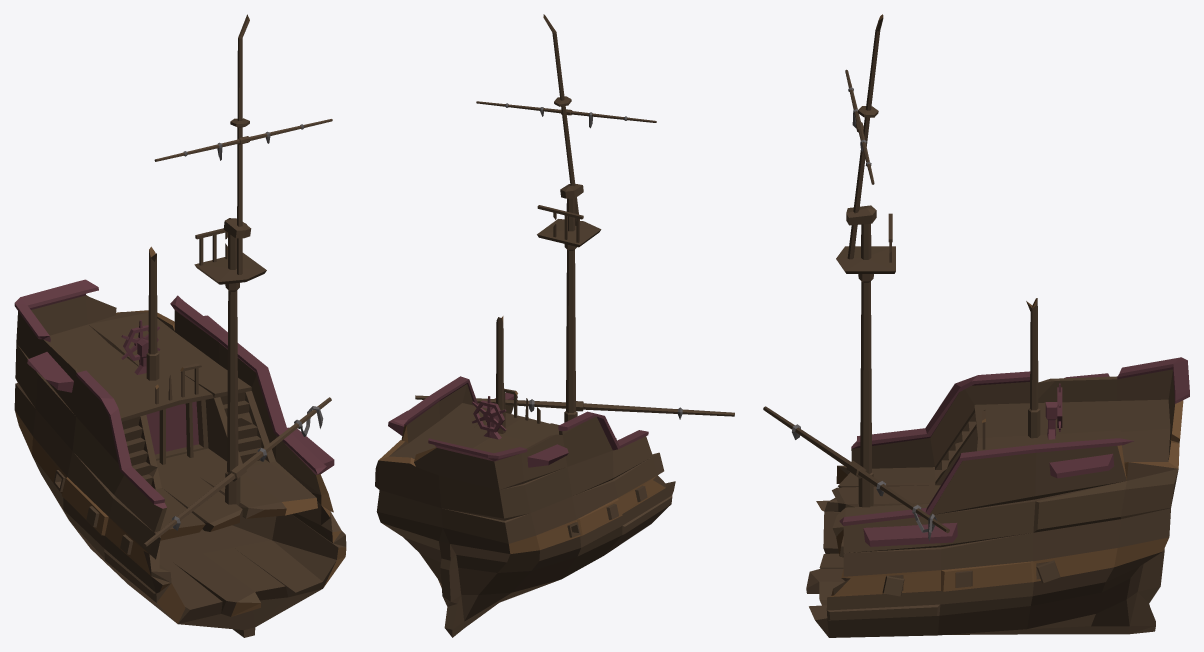
File: ship-pirate-vreck-back.fbx
3 renders of one model, left to right at view 1: azimuth 30°, elevation 25°; view 2: azimuth 150°, elevation 25°; view 3: azimuth 270°, elevation 25°, orthographic. The views are drawn at different scales.
Parts seen in each view (by area): view 1: ship-pirate-vreck-back; view 2: ship-pirate-vreck-back; view 3: ship-pirate-vreck-back.
Part boxes in pixels (left/top/right/bottom): ship-pirate-vreck-back: left=14, top=14, right=346, bottom=637; ship-pirate-vreck-back: left=375, top=14, right=734, bottom=637; ship-pirate-vreck-back: left=763, top=14, right=1189, bottom=637.
Bounding box in the file's own units: 10.76 × 22.5 × 13.78.
